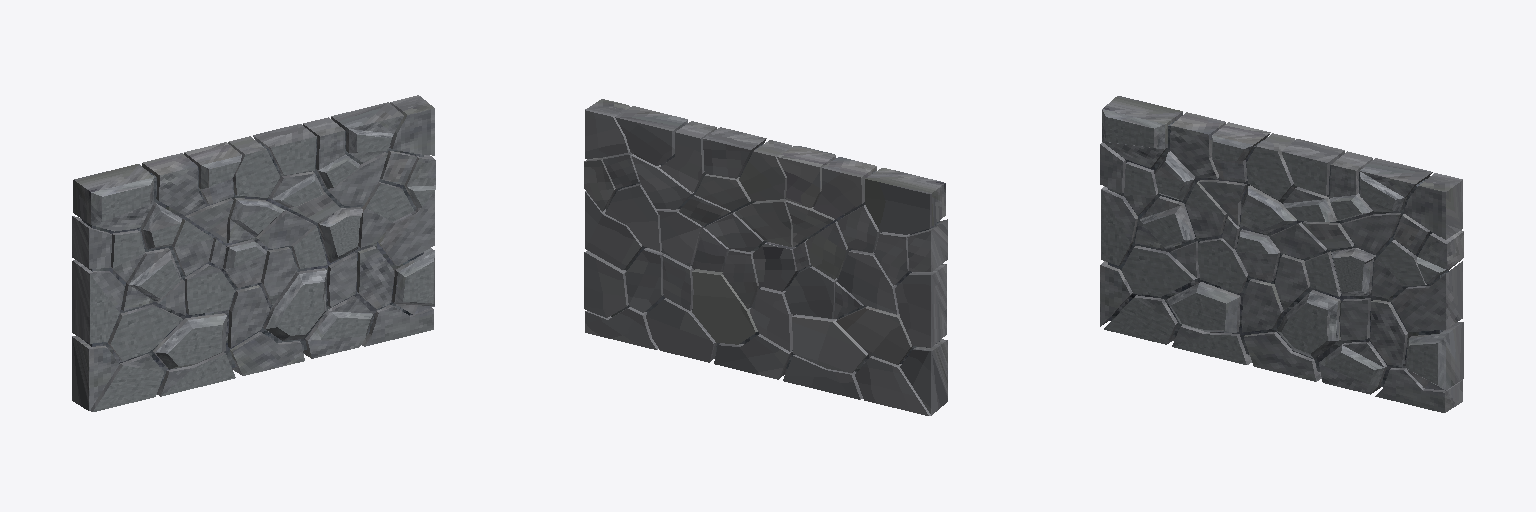
3 views of the same model, side by side, from view 1: azimuth 30°, elevation 25°; view 2: azimuth 150°, elevation 25°; view 3: azimuth 330°, elevation 25° (orthographic).
Visible parts, largest first — view 1: wall:Mesh; view 2: wall:Mesh; view 3: wall:Mesh.
Part boxes in pixels (x1,y1,x2,y2): wall:Mesh: (72, 95, 435, 411); wall:Mesh: (584, 99, 947, 415); wall:Mesh: (1100, 96, 1463, 412).
Bounding box in the file's own units: 16.1 × 9.88 × 1.65.
1 materials, 1 textured.